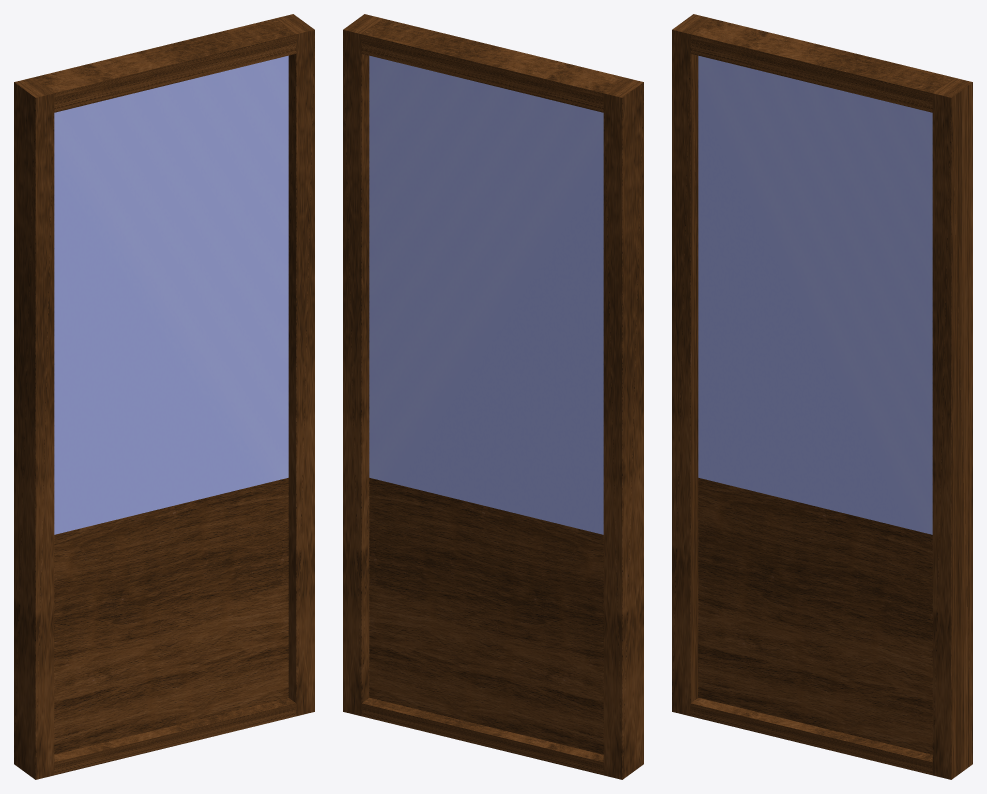
The picture shows the model from 3 angles, left to right: view 1: azimuth 30°, elevation 25°; view 2: azimuth 150°, elevation 25°; view 3: azimuth 330°, elevation 25°; orthographic projection.
Parts seen in each view (by area): view 1: door_glass, frame, door_wood; view 2: door_glass, frame, door_wood; view 3: door_glass, frame, door_wood.
Part boxes in pixels (<box>): door_glass: <box>54,55,288,534</box>; frame: <box>14,14,314,779</box>; door_wood: <box>54,478,288,754</box>; door_glass: <box>369,55,603,534</box>; frame: <box>343,14,643,779</box>; door_wood: <box>369,478,603,754</box>; door_glass: <box>698,55,932,534</box>; frame: <box>672,14,972,779</box>; door_wood: <box>698,478,932,754</box>.
Bounding box in the file's own units: 0.9 × 2.1 × 0.12.
3 materials, 3 textured.
